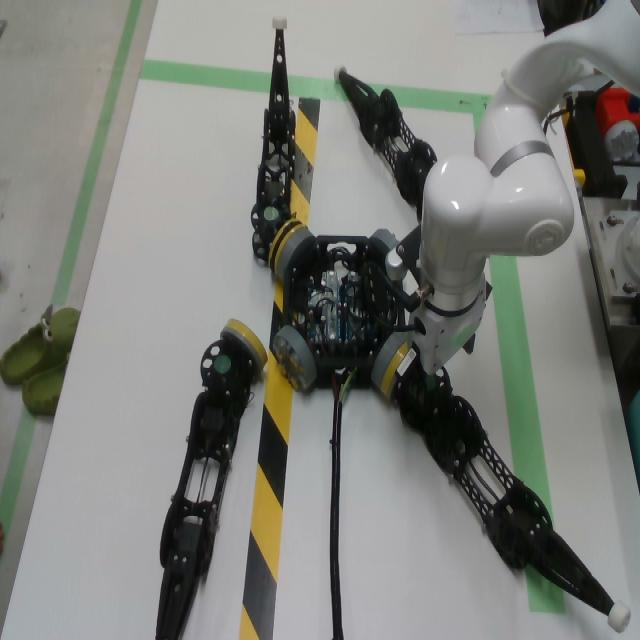body: (282, 236, 406, 391)
body_connector: (272, 325, 317, 392), (371, 332, 408, 391), (276, 227, 315, 279), (369, 228, 400, 257)
gripper: (396, 281, 493, 431)
leg: (380, 343, 632, 633), (155, 319, 269, 640), (334, 63, 438, 221), (250, 12, 295, 264)
leg_connector: (220, 319, 268, 372), (268, 220, 304, 275), (381, 341, 410, 400)
leg_marker: (214, 355, 231, 373), (265, 208, 278, 220), (426, 376, 435, 392)
